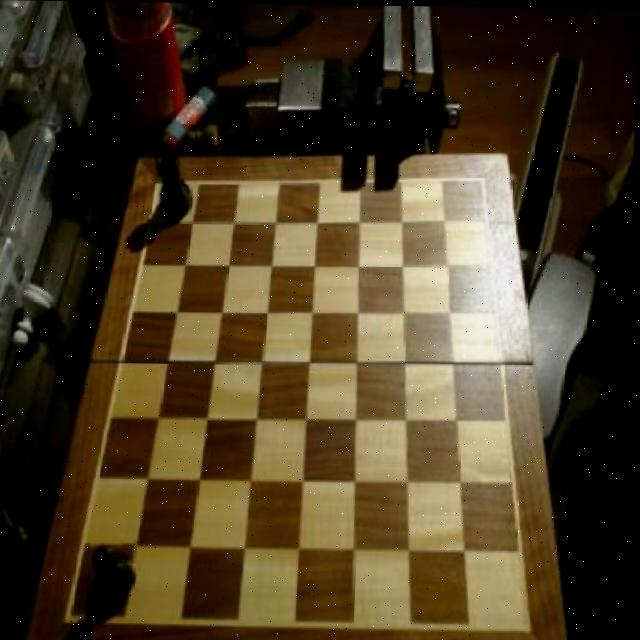black-knight: (94, 540, 147, 608)
black-queen: (154, 143, 198, 221)
